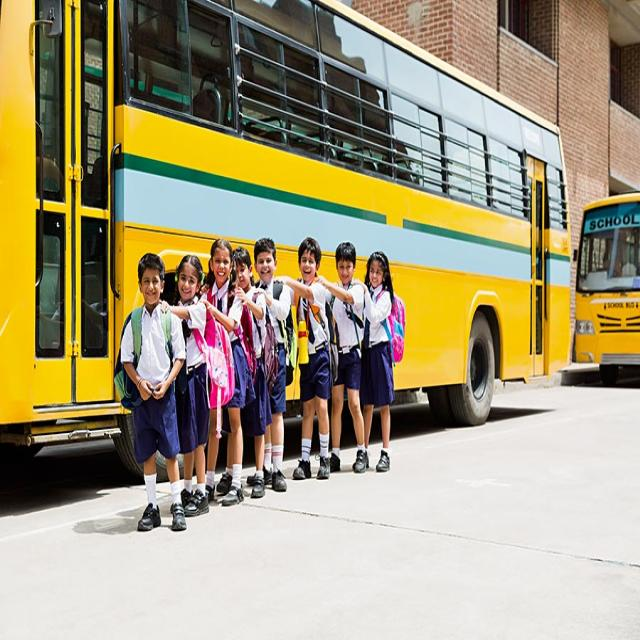bus: (0, 0, 570, 472), (575, 195, 640, 385)
